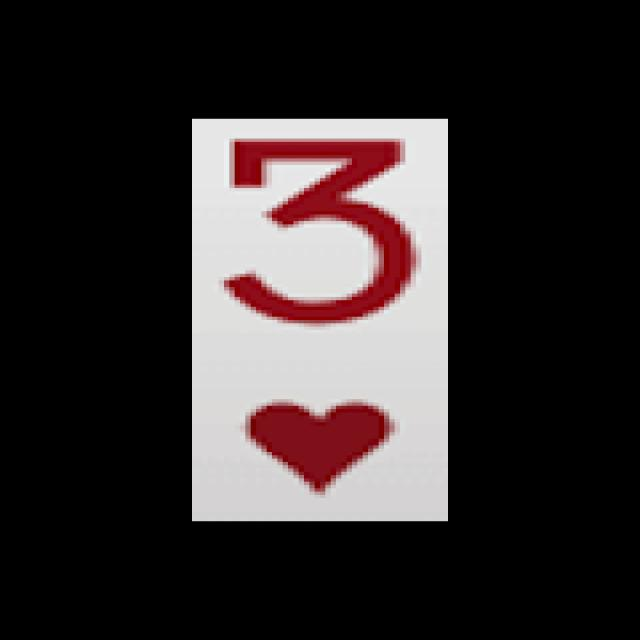3H: (205, 130, 430, 508)
